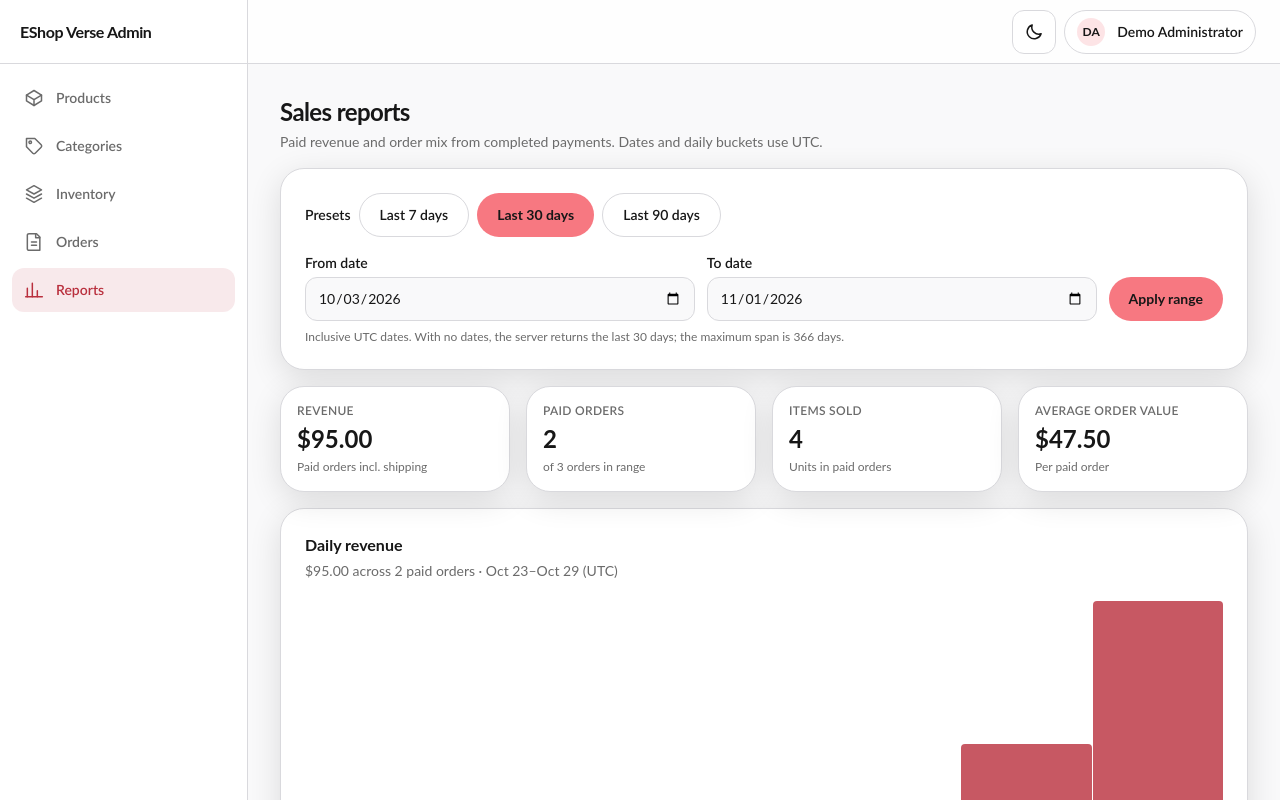
ReportsPage (RPT-002) › reports_custom_range_rejects_from_after_to_without_a_request
expect the text "$95.00" is shown: met, box [297,424,372,453]
Type "2026-10-20" into the date field labelled "From date".
click(500, 299); type("2026-10-20")  # box [305,277,695,321]
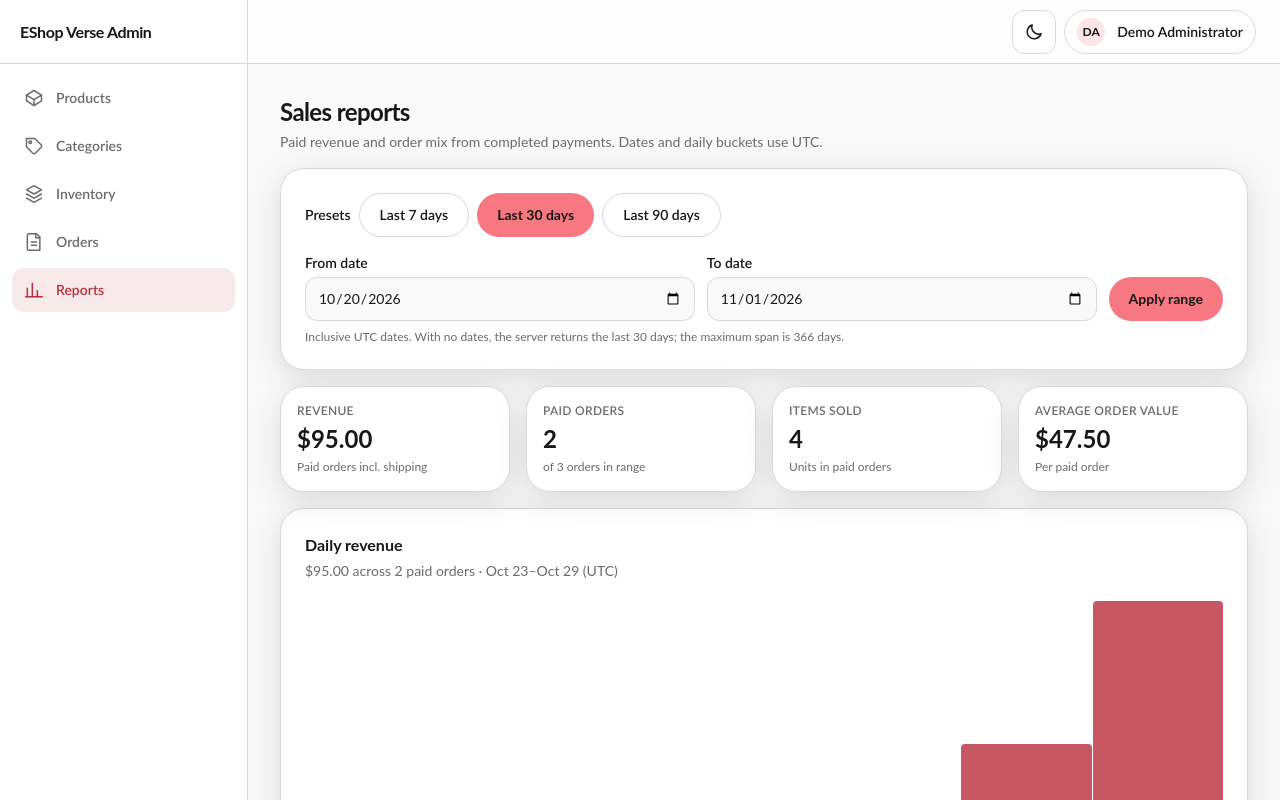
Type "2026-10-10" into the date field labelled "To date".
click(902, 299); type("2026-10-10")  # box [707,277,1097,321]
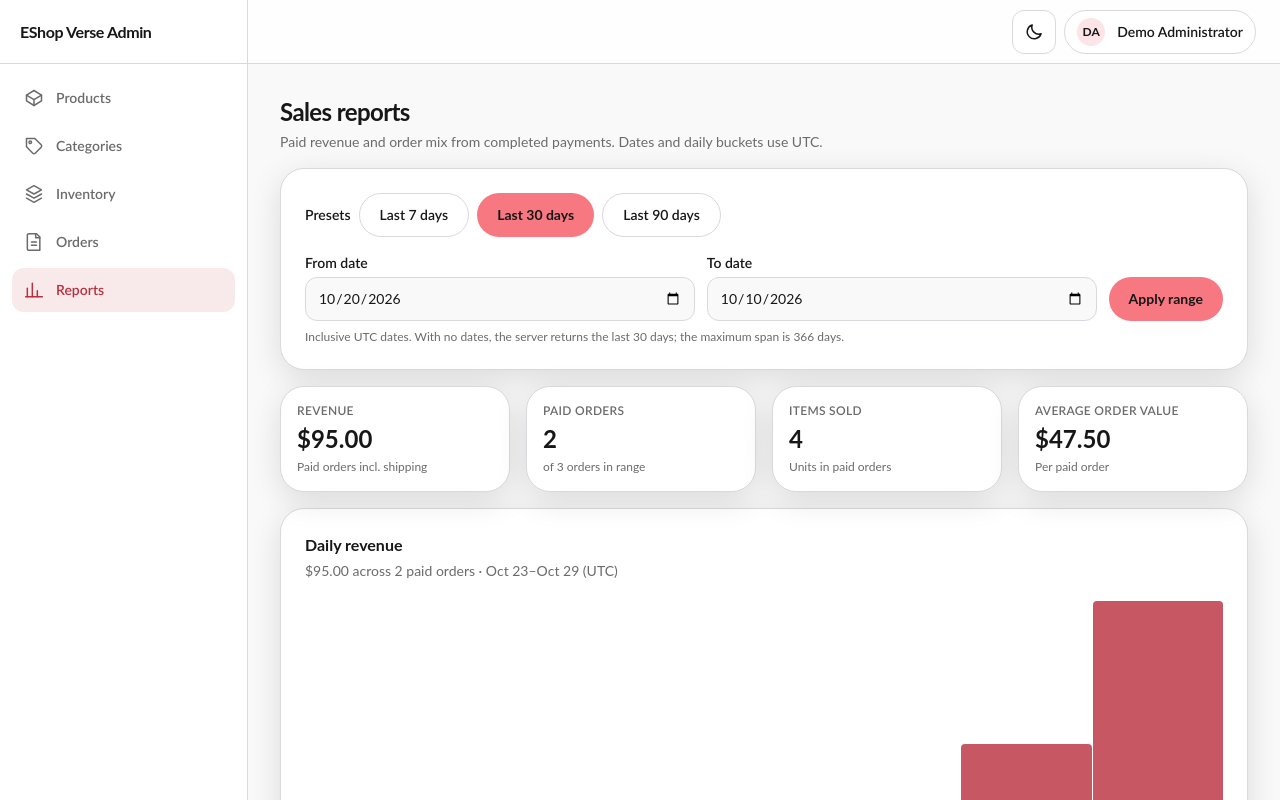
Click the button "Apply range".
click(1166, 299)  # box [1109,277,1223,321]
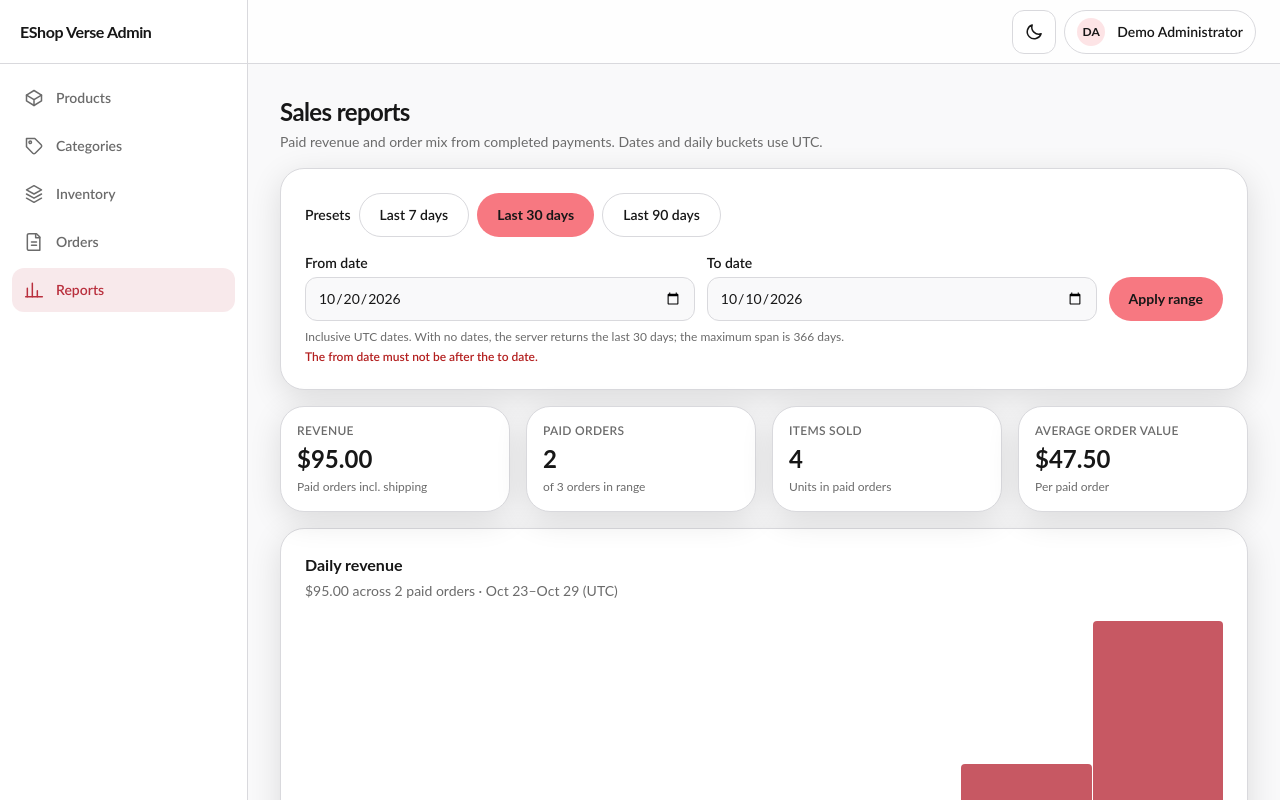
expect the message reads "The from date must not be after the to date.": met, box [305,349,538,364]
